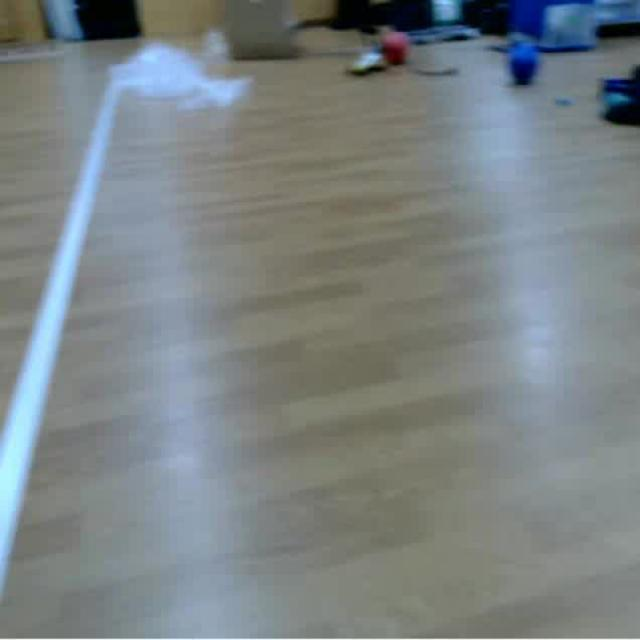blue_ball: (513, 36, 543, 88)
red_ball: (380, 31, 410, 66)
